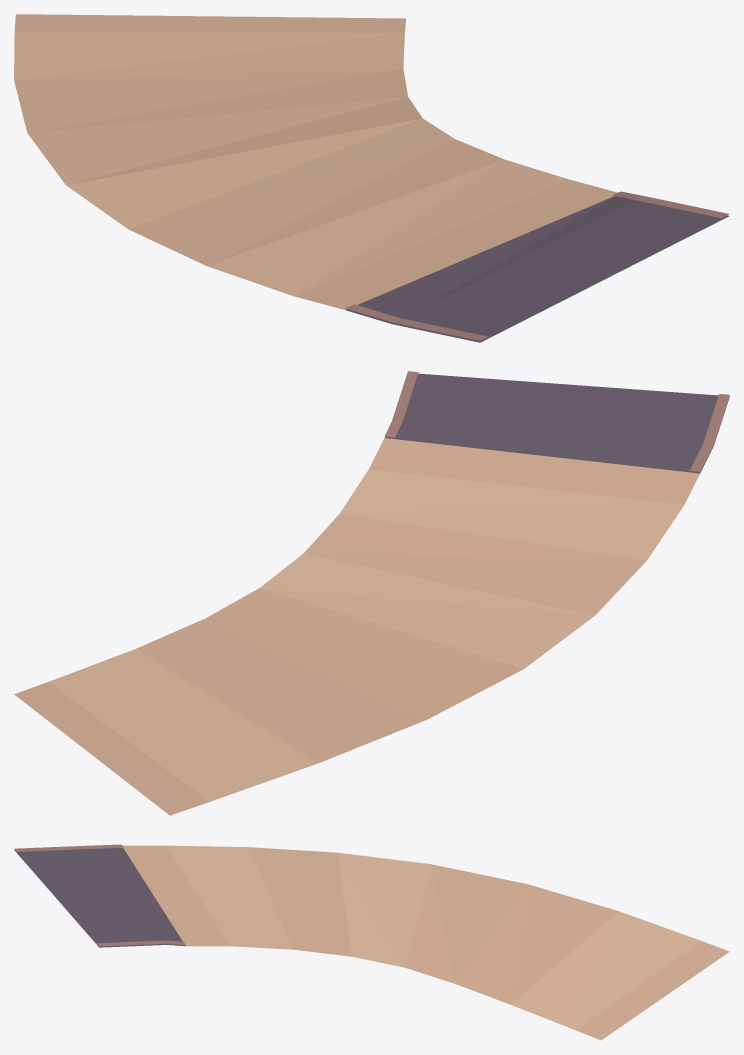
Rendered from tramo_pista_3.glb.
The picture shows the model from 3 angles, top to bottom: view 1: azimuth 30°, elevation 25°; view 2: azimuth 150°, elevation 25°; view 3: azimuth 270°, elevation 25°; orthographic projection. The views are drawn at different scales.
Visible parts, largest first — view 1: tramo_pista_3; view 2: tramo_pista_3; view 3: tramo_pista_3.
Boxes of the visible parts, x1,y1,x2,y2 form: tramo_pista_3: [14, 14, 729, 342]; tramo_pista_3: [14, 371, 729, 815]; tramo_pista_3: [14, 844, 729, 1040].
Size of the model in its own units: 12.08 by 2.69 by 24.39.
